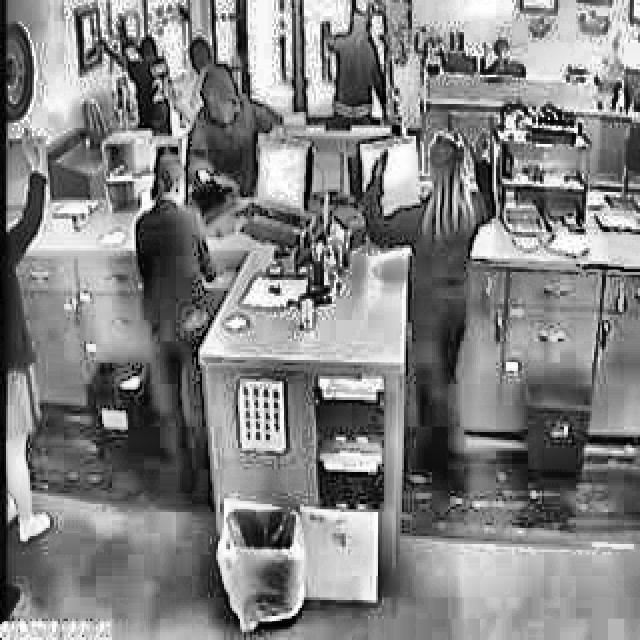Weapon: (354, 116, 522, 514), (79, 10, 288, 187), (141, 166, 195, 504), (309, 8, 423, 134)
